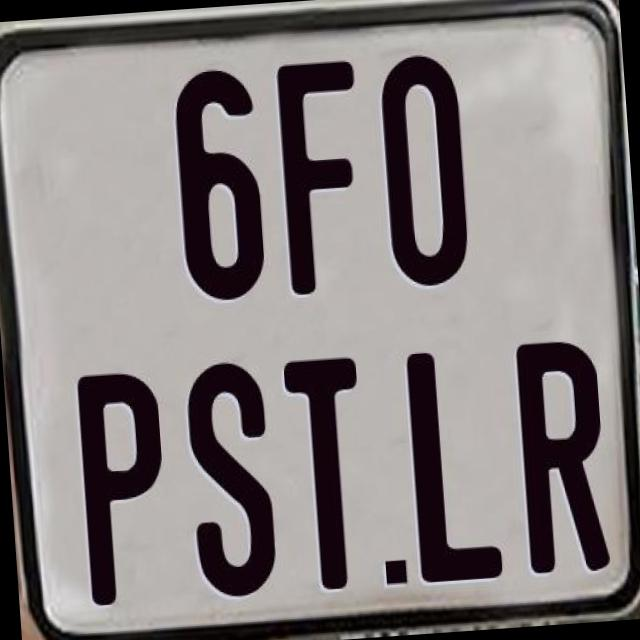0: (376, 52, 476, 292)
6: (169, 66, 273, 302)
F: (275, 55, 373, 296)
L: (402, 348, 502, 586)
P: (74, 365, 172, 604)
R: (512, 336, 606, 573)
S: (182, 358, 280, 608)
T: (280, 351, 372, 588)
